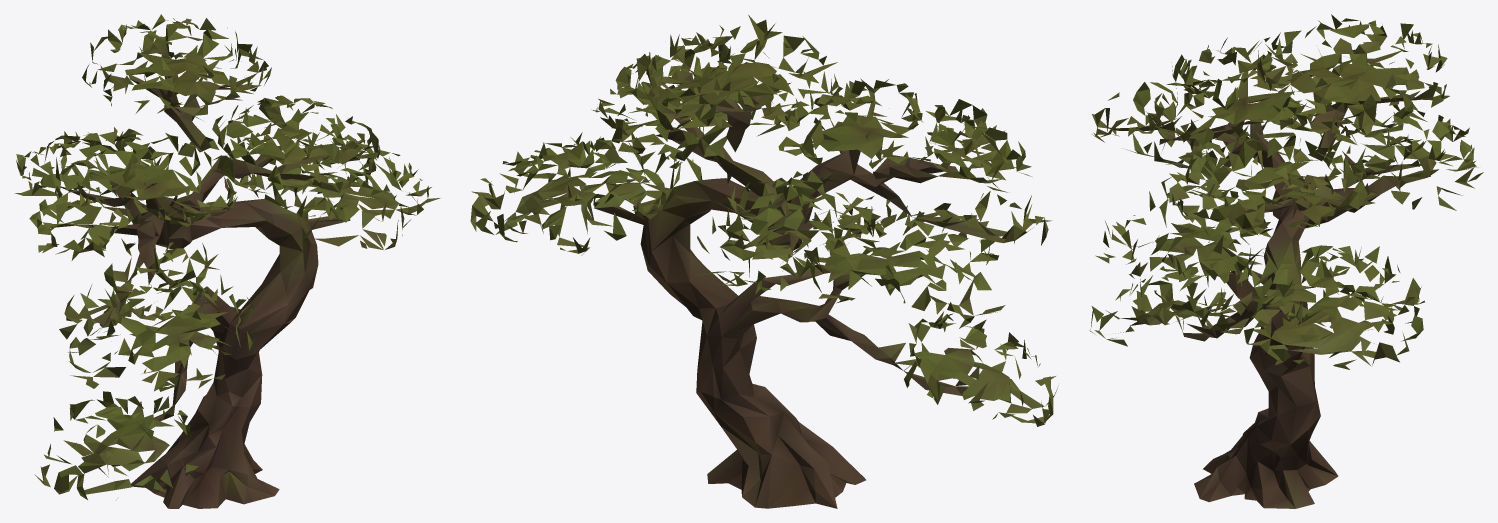
File: lib_bonsai.vc.glb
The picture shows the model from 3 angles, left to right: view 1: azimuth 30°, elevation 25°; view 2: azimuth 150°, elevation 25°; view 3: azimuth 270°, elevation 25°; orthographic projection. The views are drawn at different scales.
Parts seen in each view (by area): view 1: lib_bonsai; view 2: lib_bonsai; view 3: lib_bonsai.
Part boxes in pixels (x1,y1,x2,y2): lib_bonsai: (14, 14, 440, 508); lib_bonsai: (470, 14, 1058, 508); lib_bonsai: (1089, 14, 1483, 508).
Bounding box in the file's own units: 1.96 × 1.78 × 1.42.
